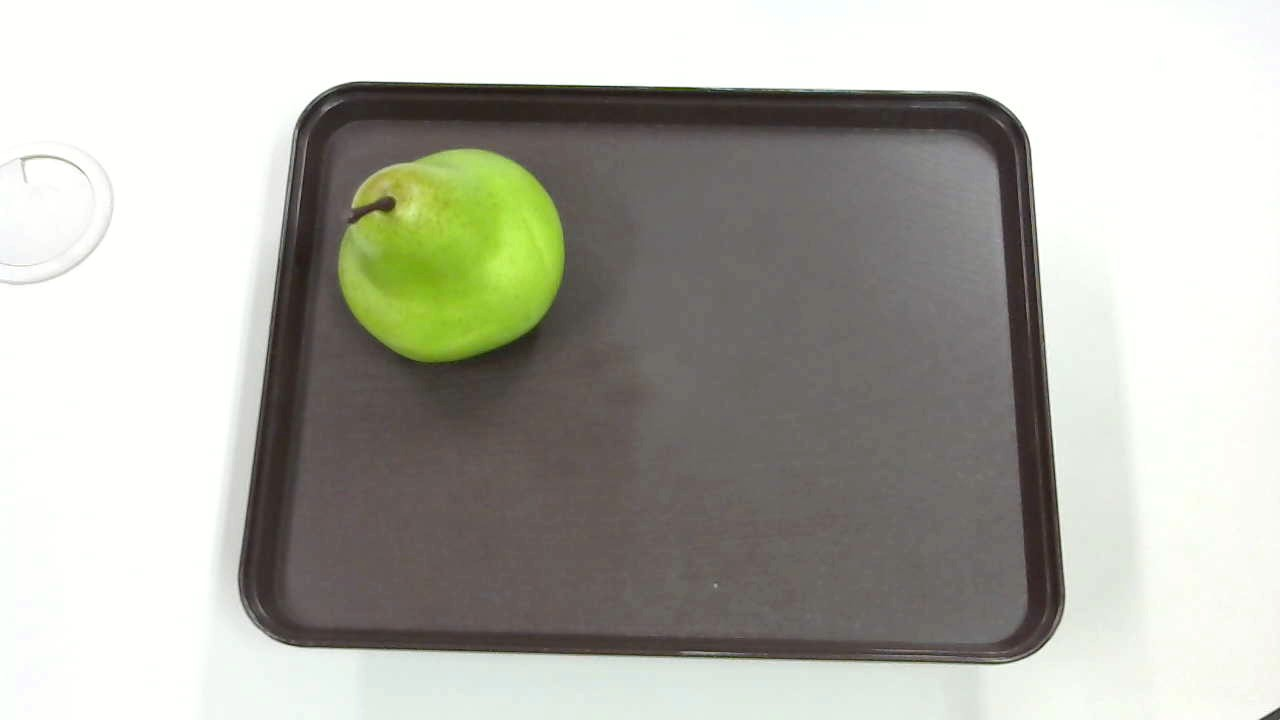green pear: (329, 142, 579, 368)
